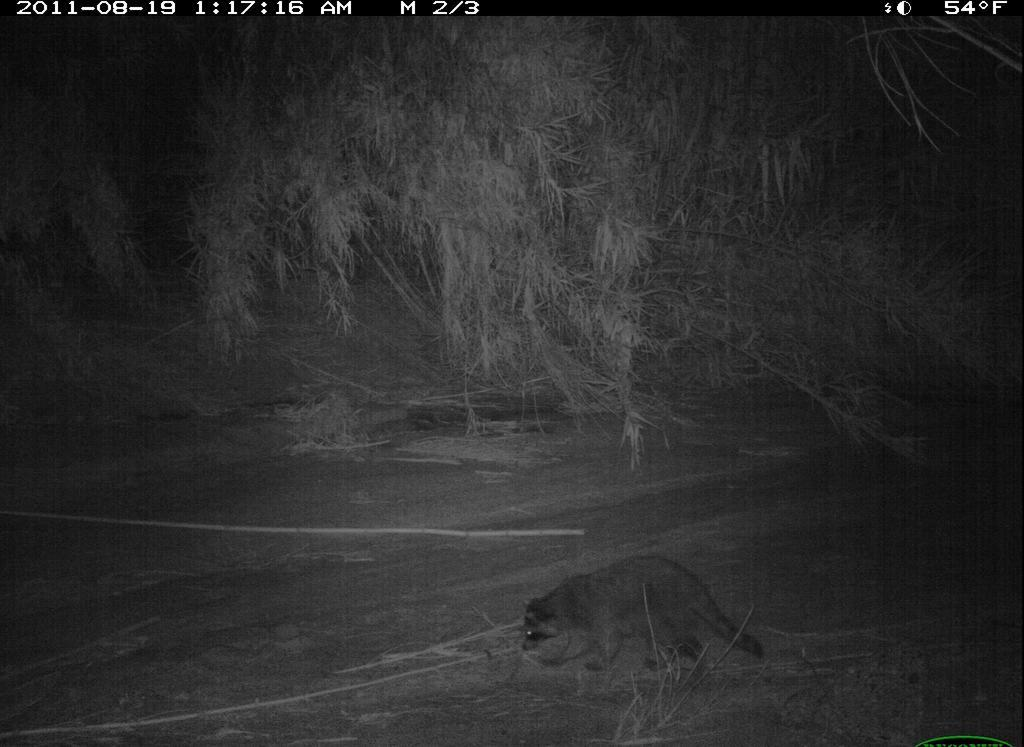raccoon: (509, 557, 766, 694)
